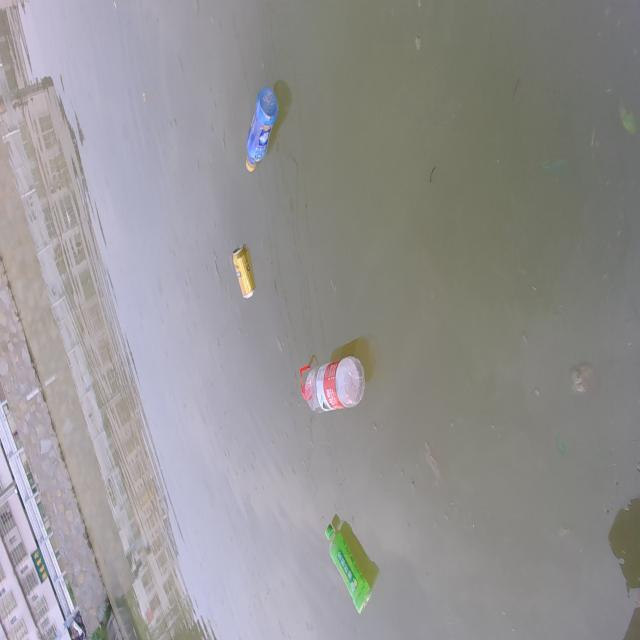Bottle: (321, 519, 376, 621), (292, 353, 369, 414), (242, 78, 280, 177)
Can: (228, 233, 258, 302)
